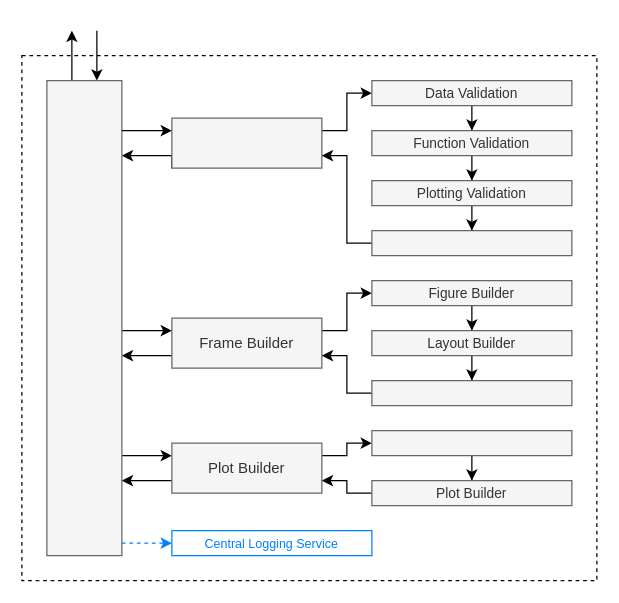
Image size: 619x603. Some labels were removed from this diagram. The box of each missing label's shape, as (x1, y1, x2, y2) in pixels:
Configuration Validation: (371, 229, 572, 256)
Data Builder: (371, 429, 572, 456)
Graph Builder: (371, 379, 572, 406)
Plotter Service: (46, 79, 122, 556)
Validator: (171, 117, 322, 168)
